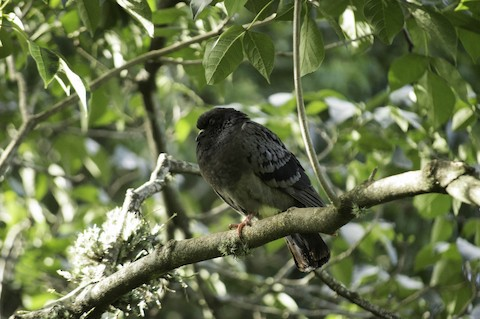pigeon: (188, 103, 339, 273)
